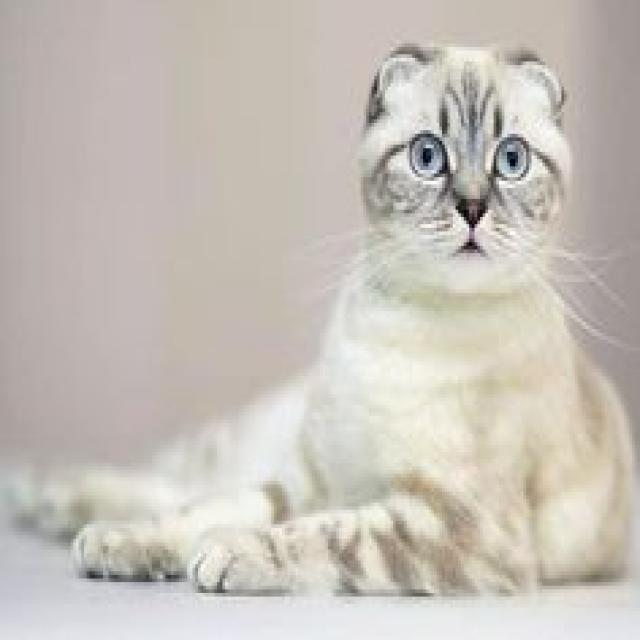da khoe manh: (285, 371, 489, 550)
